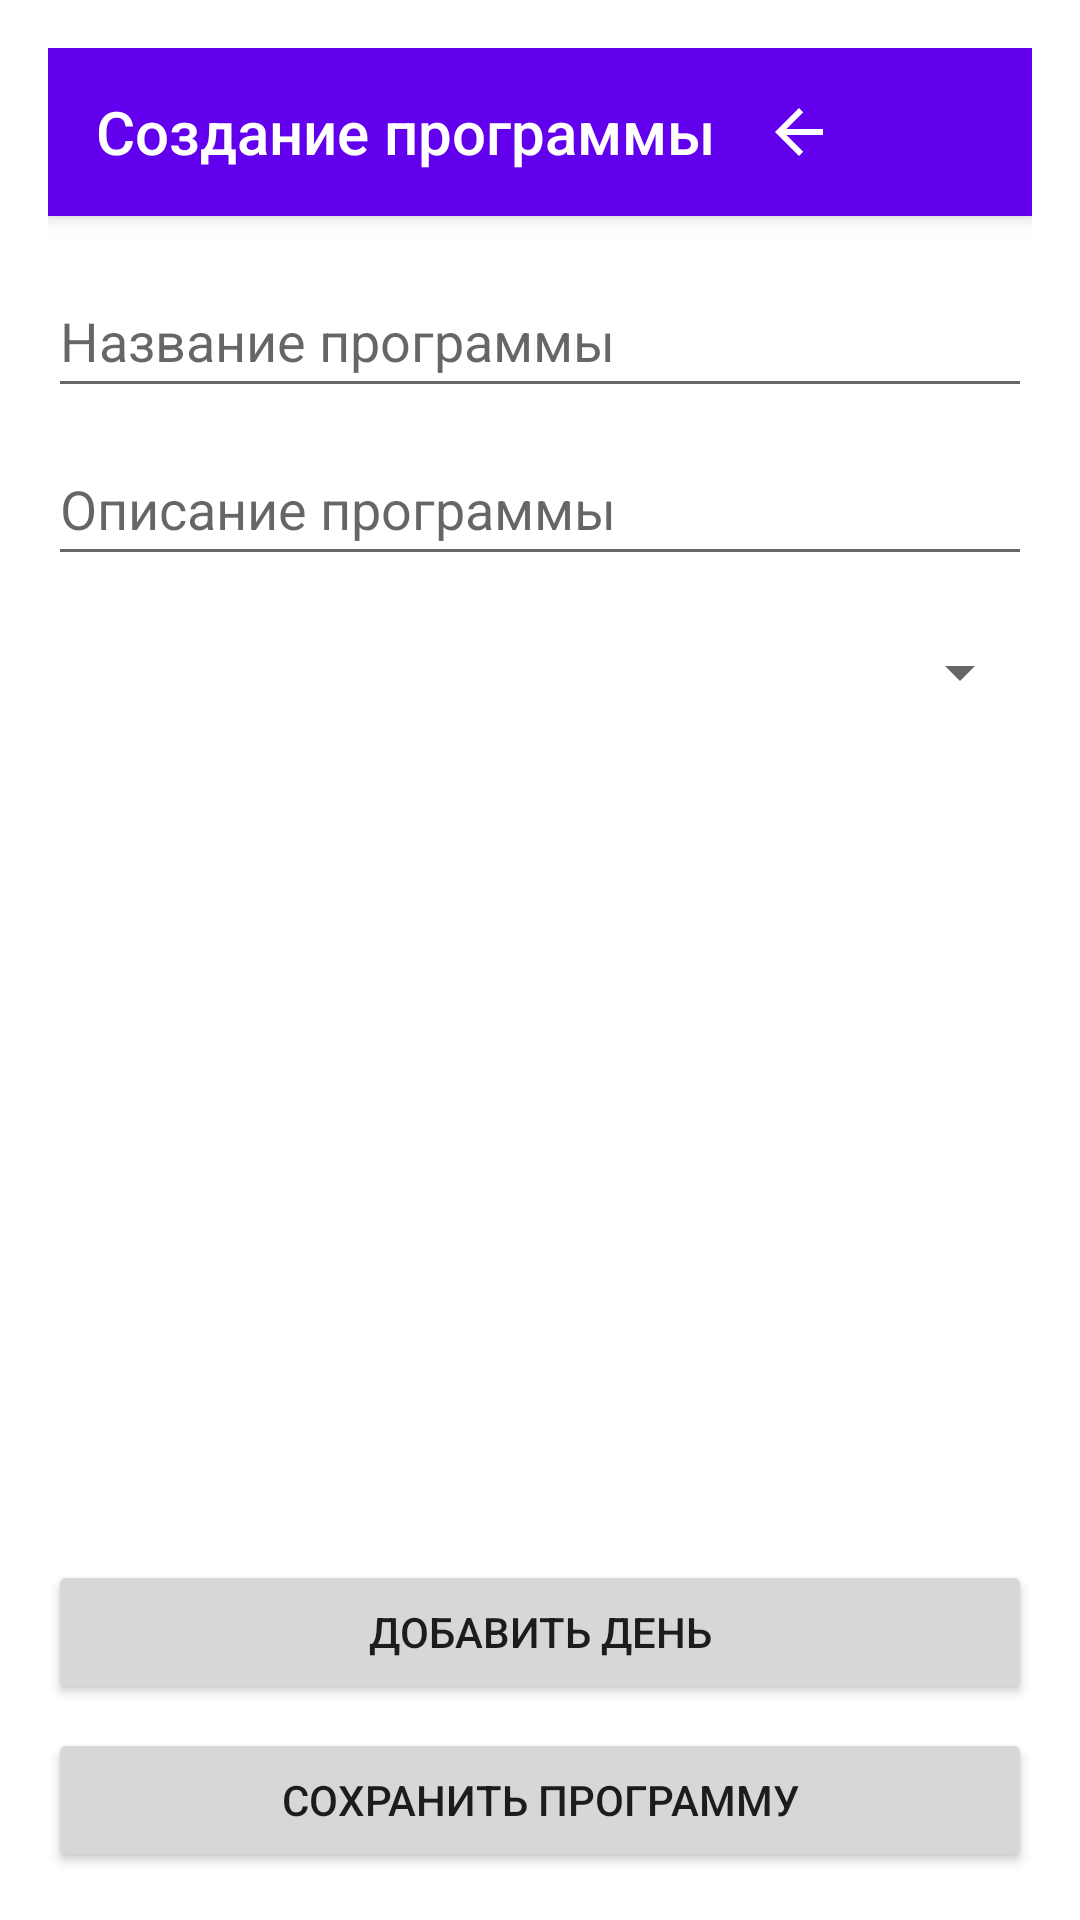

Locate icon controls on the screen. Image size 1080x1920, boxes as (x1, y1, x2, y2).
Назад: (775, 108, 823, 156)
